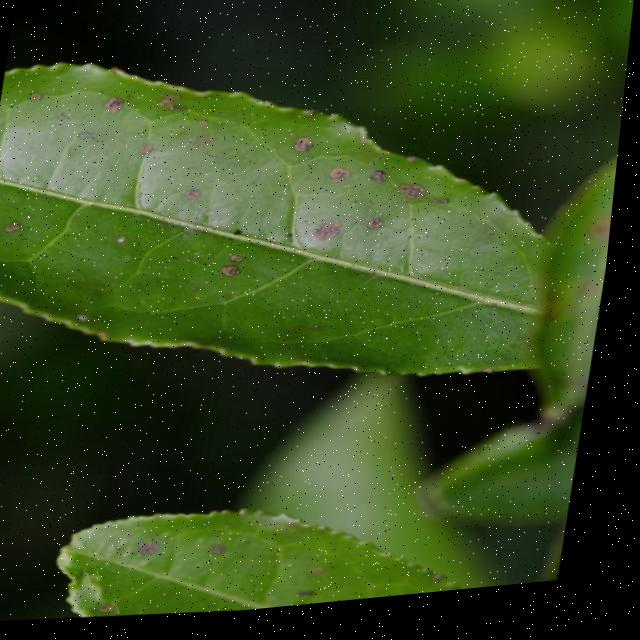Tea red rust: (0, 68, 474, 313)
